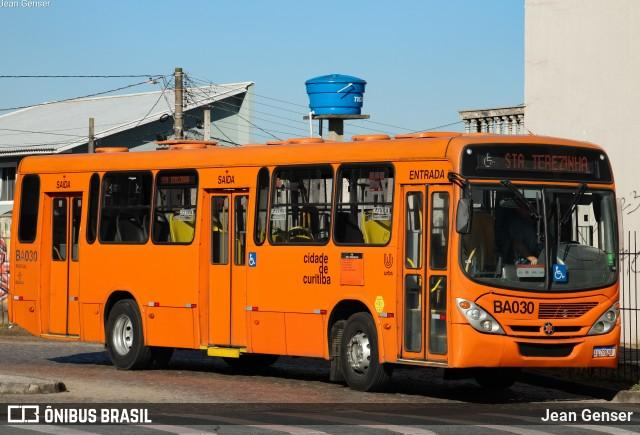STA TEREZINHA: (501, 148, 592, 175)
